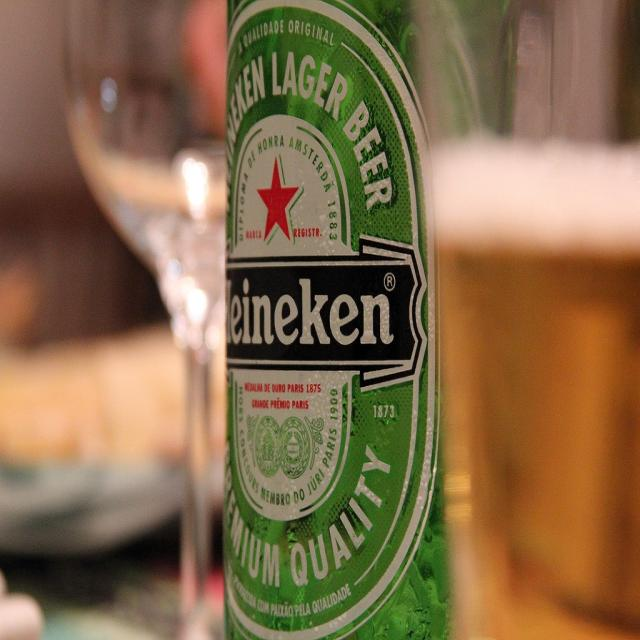heineken: (226, 2, 443, 640)
